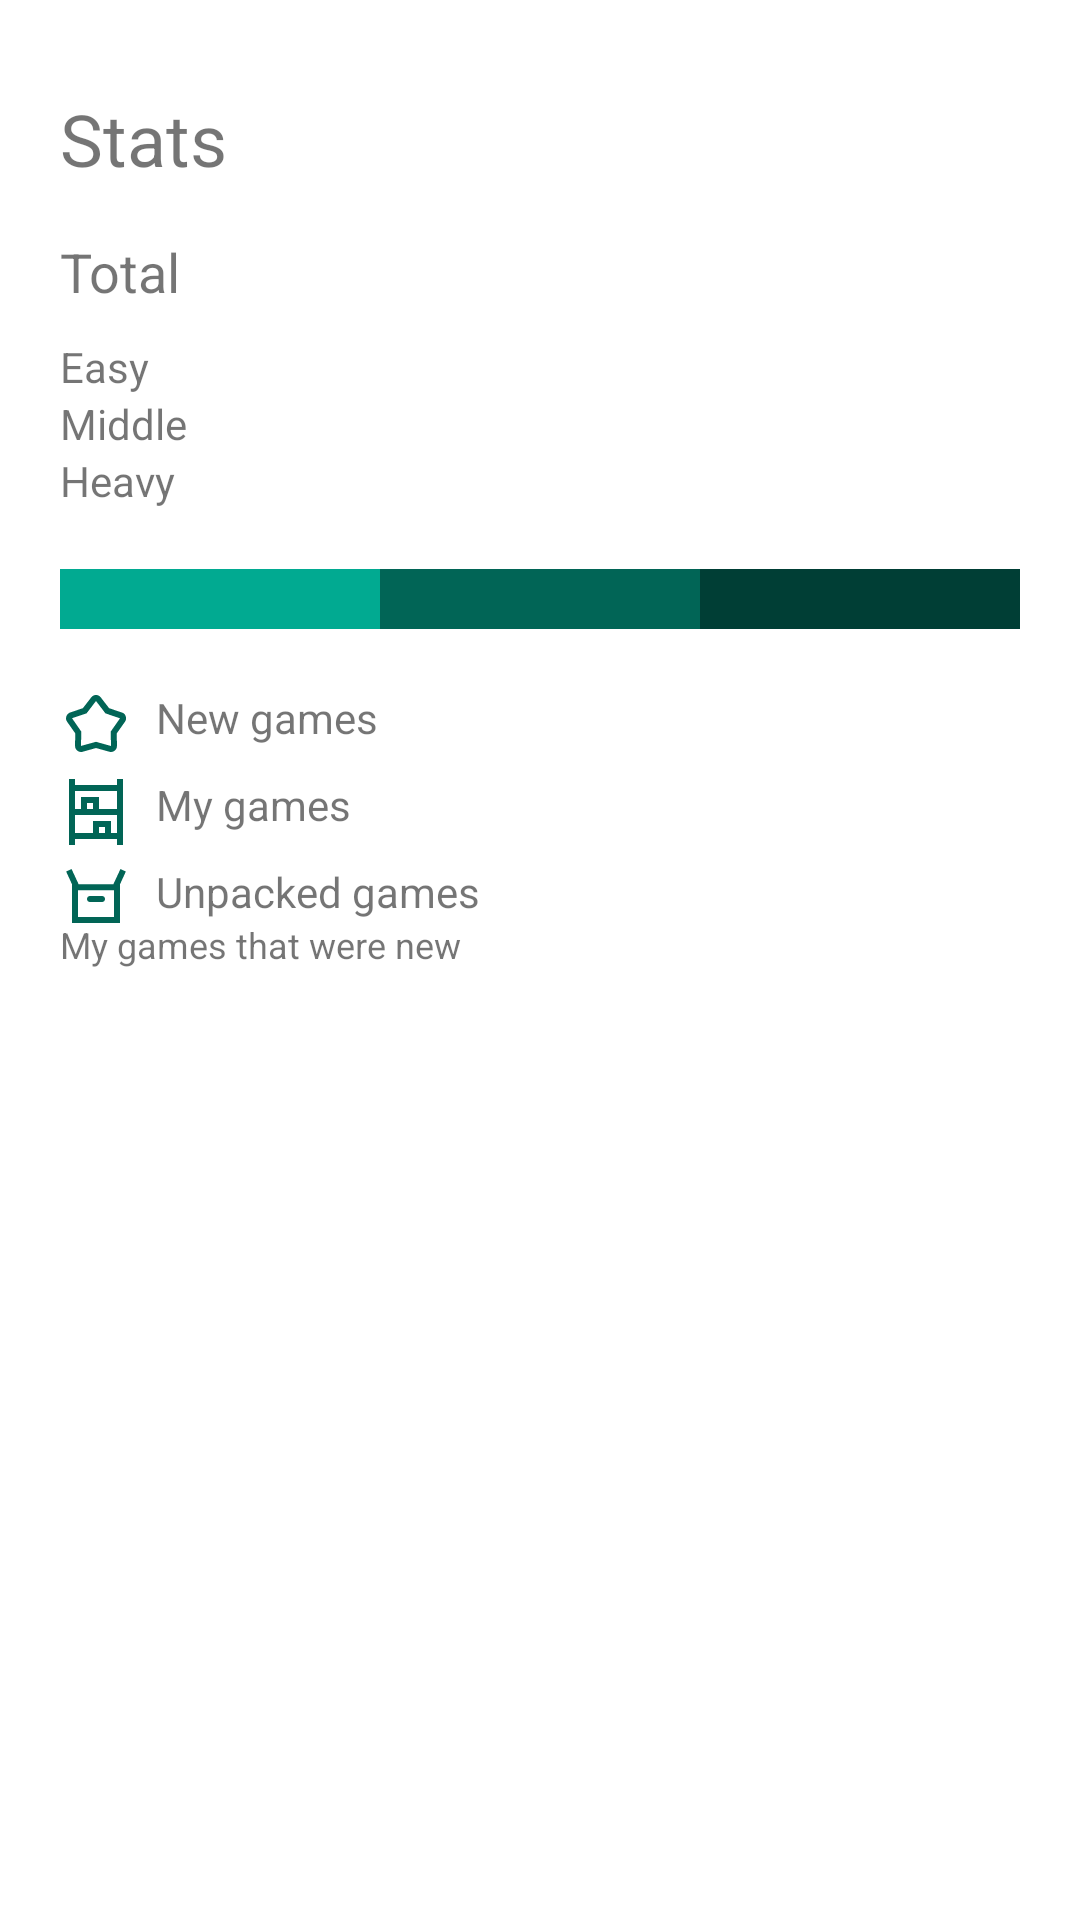

Icons on this 1080px x 1920px Android screen, each with the point to tap as (x,y):
shelves: (96,812)
star: (96,723)
unbox: (96,896)
